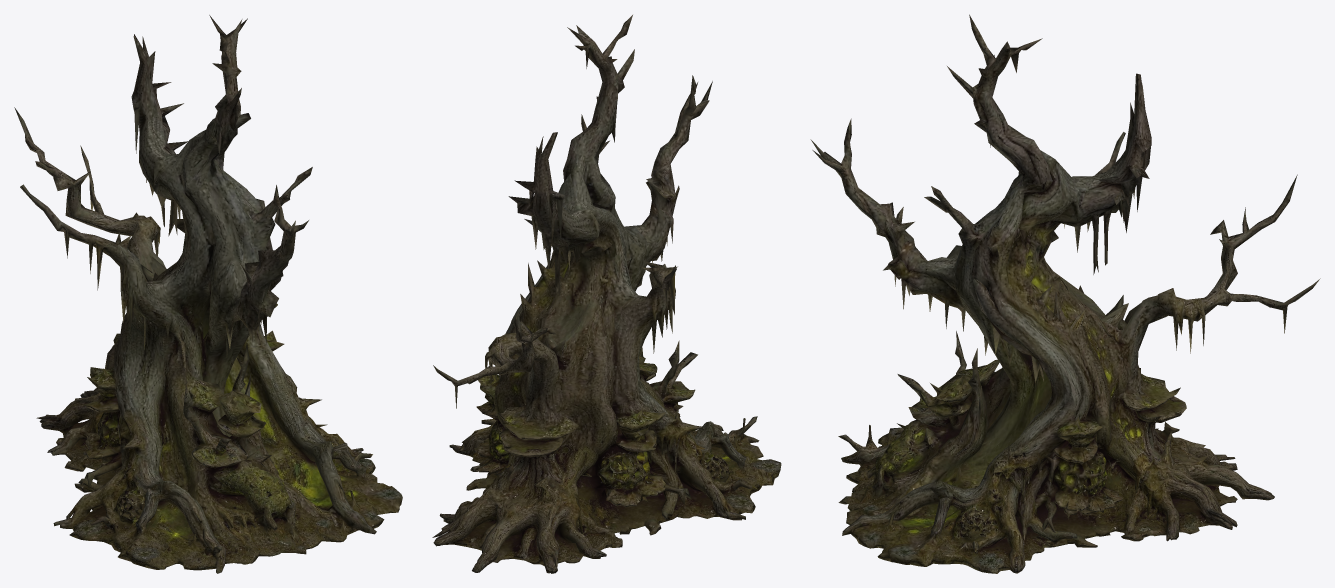
Rendered from tripo_convert_fe86c785-bbee-4299-b080-094260028956.fbx.
The picture shows the model from 3 angles, left to right: view 1: azimuth 30°, elevation 25°; view 2: azimuth 150°, elevation 25°; view 3: azimuth 270°, elevation 25°; orthographic projection. The views are drawn at different scales.
Visible parts, largest first — view 1: tripo_node_fe86c785; view 2: tripo_node_fe86c785; view 3: tripo_node_fe86c785.
Part boxes in pixels (x1,y1,x2,y2): tripo_node_fe86c785: (14, 15, 402, 573); tripo_node_fe86c785: (432, 15, 781, 573); tripo_node_fe86c785: (810, 14, 1320, 573).
Bounding box in the file's own units: 0.666 × 0.9847 × 0.9477.
1 material, 1 textured.
